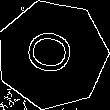O_E: (23, 28, 82, 81)
